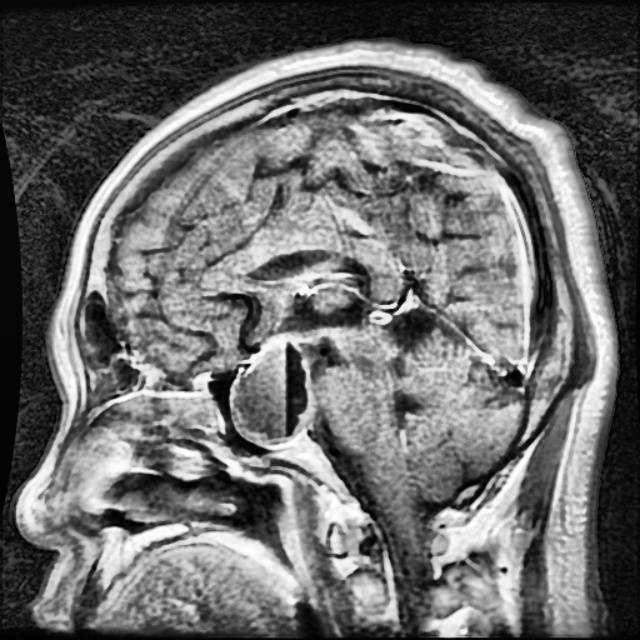Pituitary: (227, 333, 318, 445)
